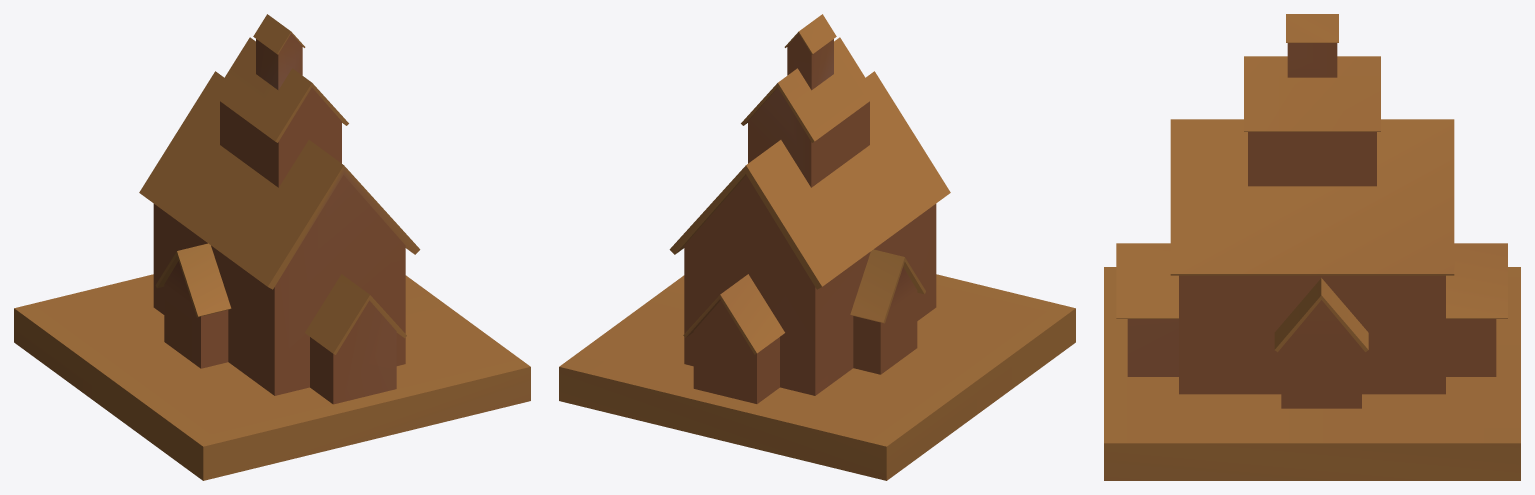
Rendered from sanctifiedhouse.glb.
3 views of the same model, side by side, from view 1: azimuth 30°, elevation 25°; view 2: azimuth 150°, elevation 25°; view 3: azimuth 270°, elevation 25° (orthographic). The views are drawn at different scales.
Parts seen in each view (by area): view 1: sanctifiedhouse; view 2: sanctifiedhouse; view 3: sanctifiedhouse.
Boxes of the visible parts, x1,y1,x2,y2 form: sanctifiedhouse: [14, 14, 530, 480]; sanctifiedhouse: [559, 14, 1075, 480]; sanctifiedhouse: [1104, 14, 1520, 480].
Size of the model in its own units: 1 by 1.01 by 1.
